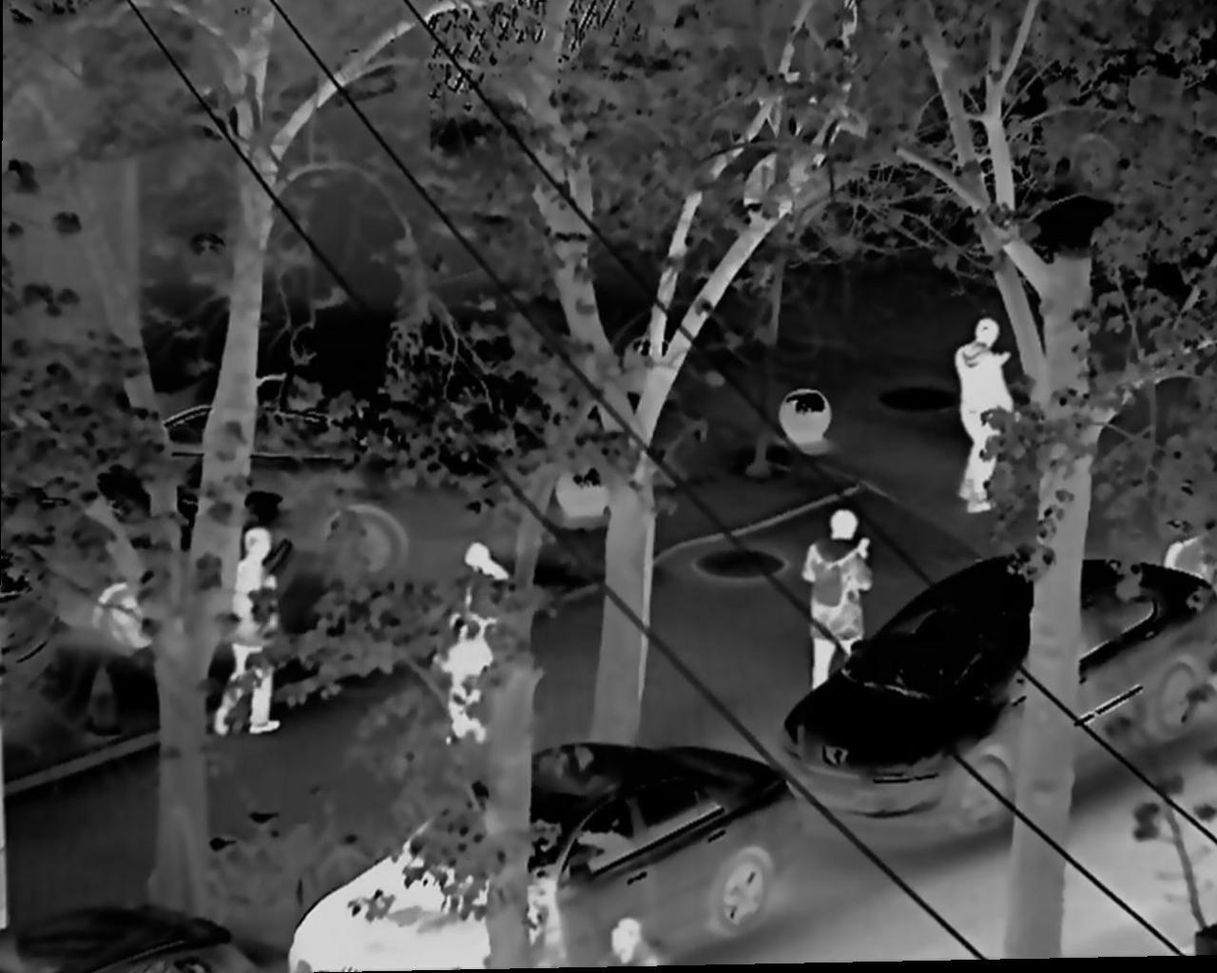person: (210, 523, 285, 741), (447, 546, 522, 752), (955, 314, 1027, 523), (799, 508, 877, 690)
